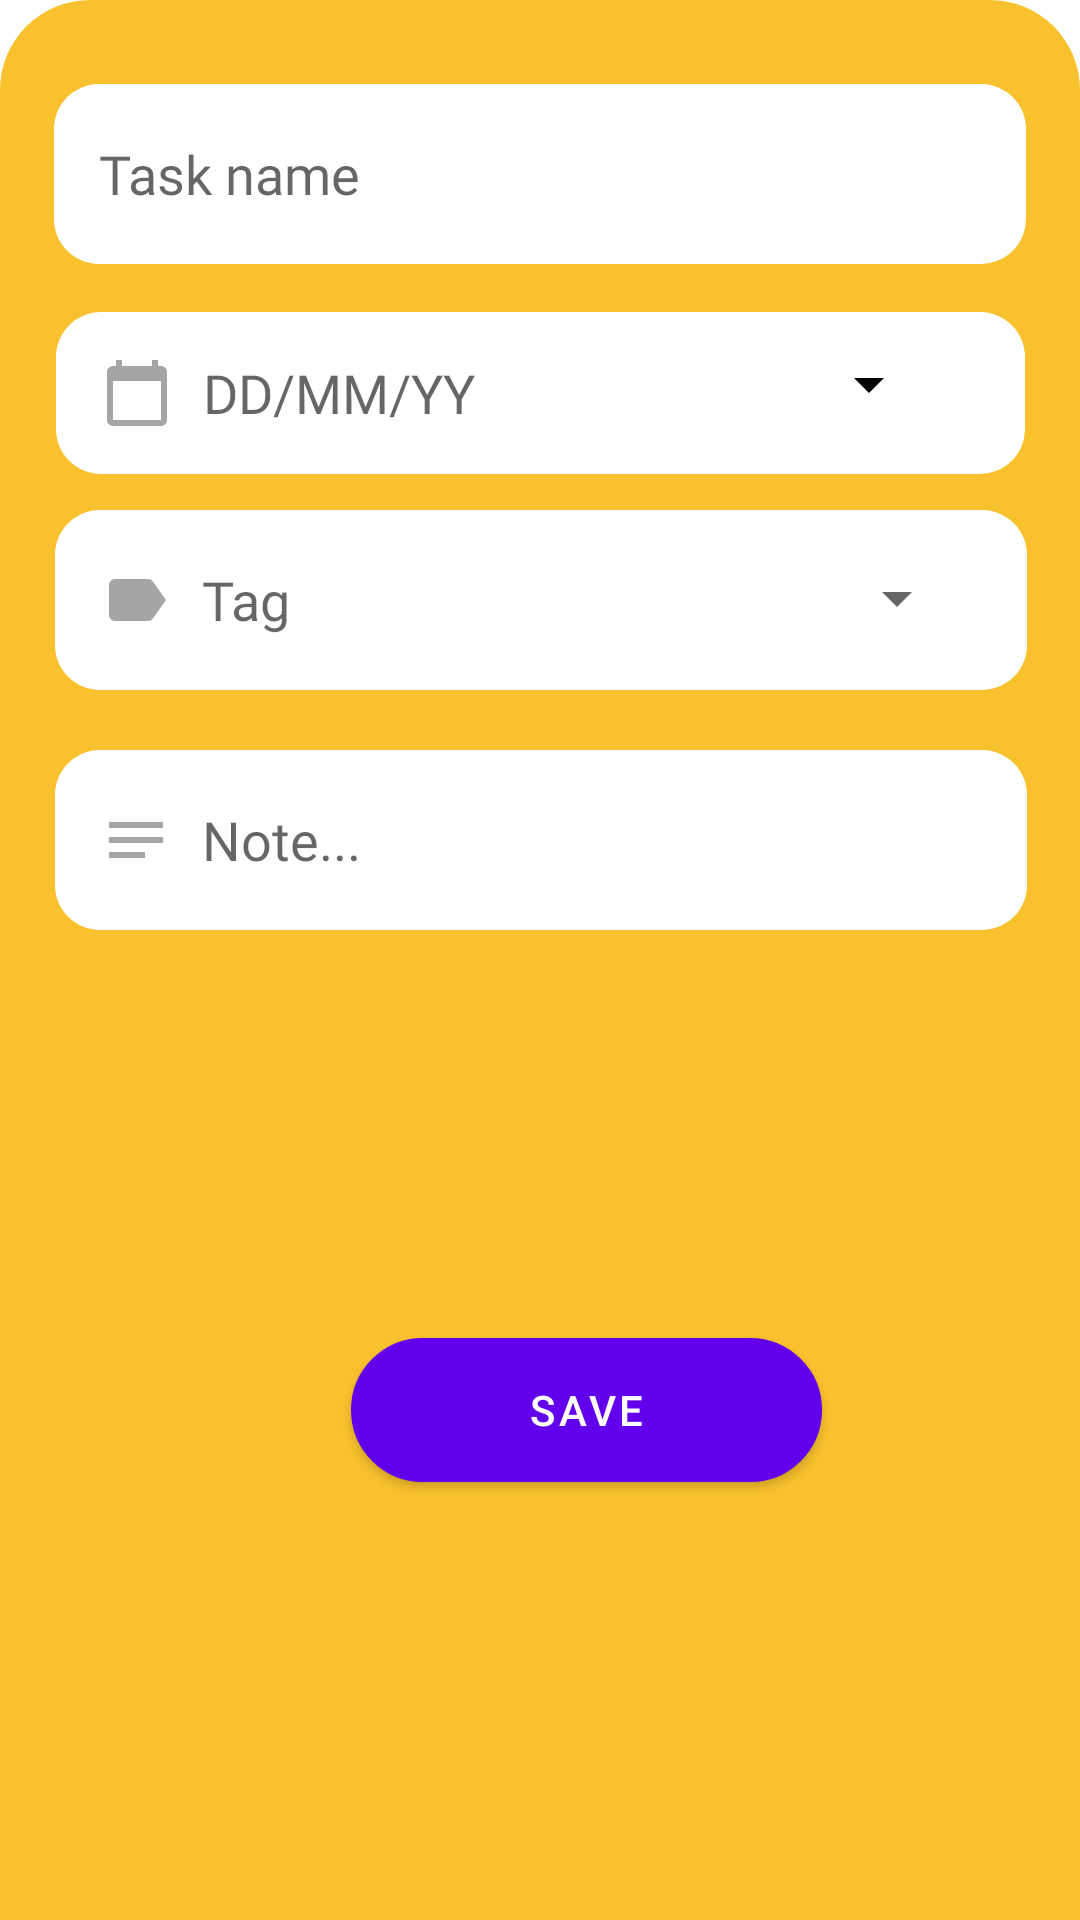

Named icons in this screenshot (1080w x 1920h) and their bounding boxes, rect(x1, y1, x2, y2):
drop down: rect(854, 378, 884, 393)
